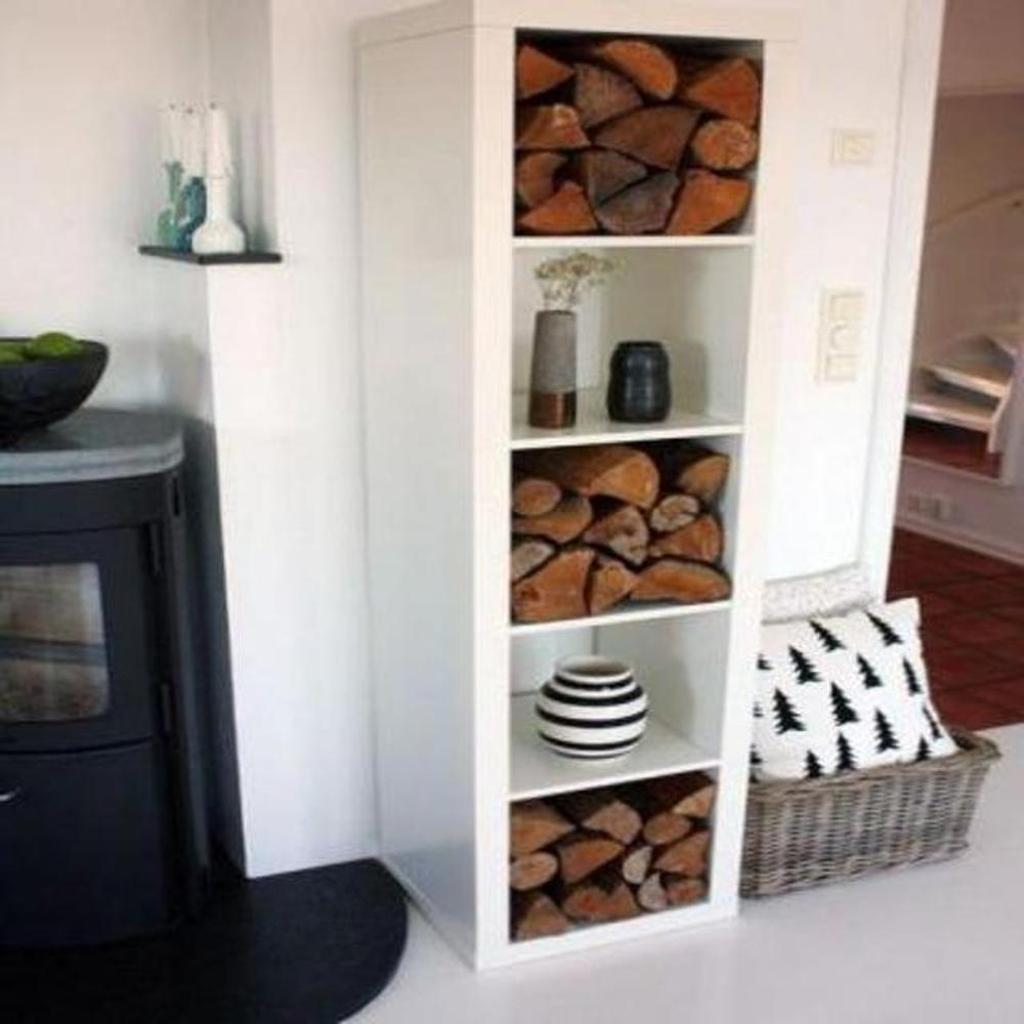lamp: (348, 1, 804, 982)
